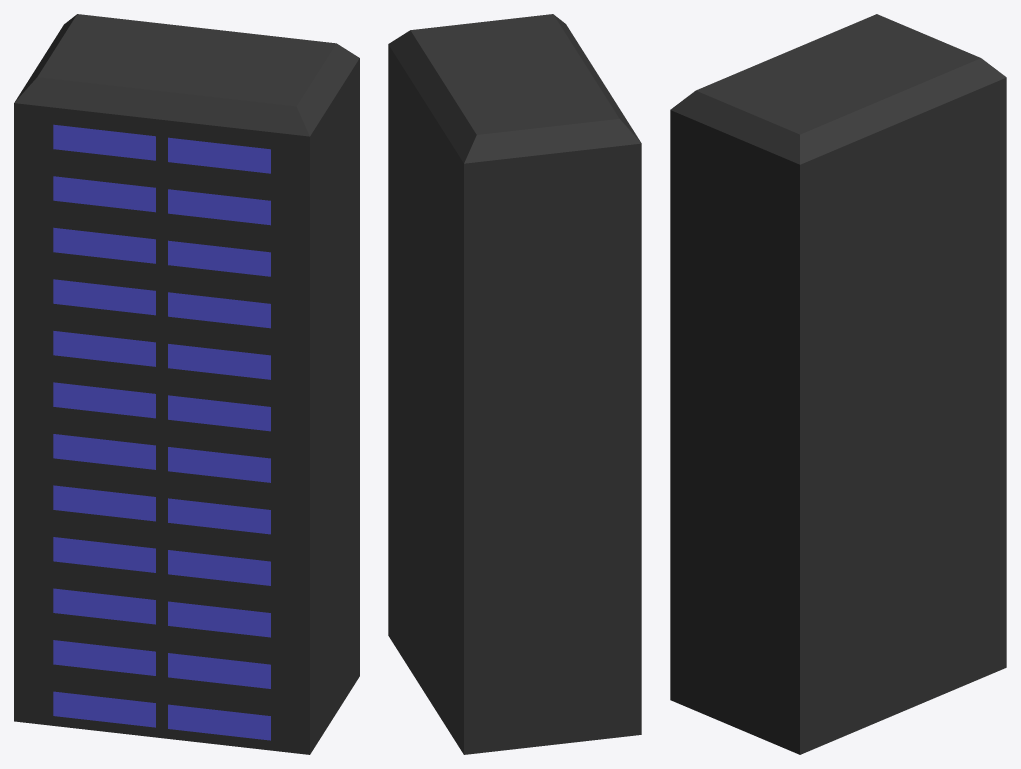
File: Ngoaicanh17.obj
3 views of the same model, side by side, from view 1: azimuth 30°, elevation 25°; view 2: azimuth 150°, elevation 25°; view 3: azimuth 270°, elevation 25° (orthographic). The views are drawn at different scales.
Visible parts, largest first — view 1: Mesh1 Group1 Model; view 2: Mesh1 Group1 Model; view 3: Mesh1 Group1 Model.
Part boxes in pixels (x1,y1,x2,y2): Mesh1 Group1 Model: (14,14,359,754); Mesh1 Group1 Model: (388,14,641,754); Mesh1 Group1 Model: (670,14,1006,754).
Size of the model in its own units: 20538 by 41034 by 20539.
